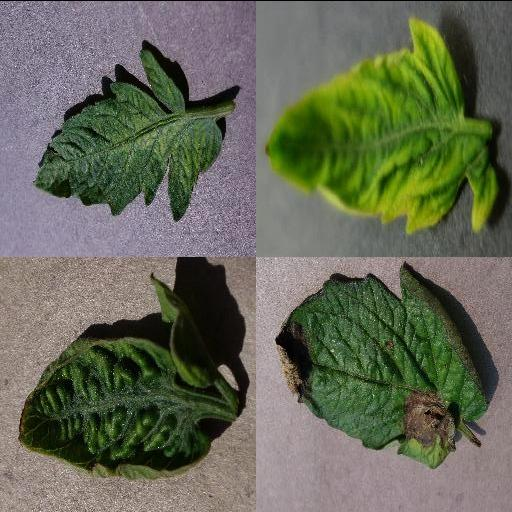Late Blight: (274, 263, 490, 469)
Mosaic Virus: (33, 48, 225, 222)
Yellow Leaf Curl Virus: (261, 15, 499, 233), (15, 335, 209, 481)
